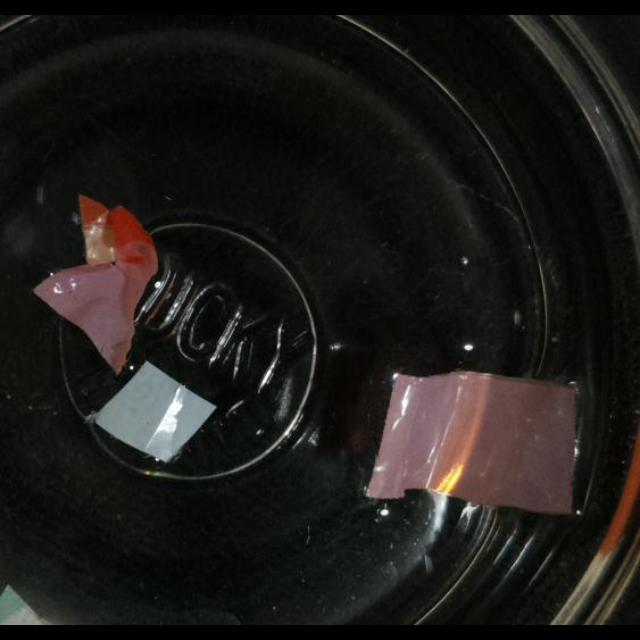Fragment: (368, 369, 576, 518), (39, 194, 155, 376), (83, 362, 217, 464)
